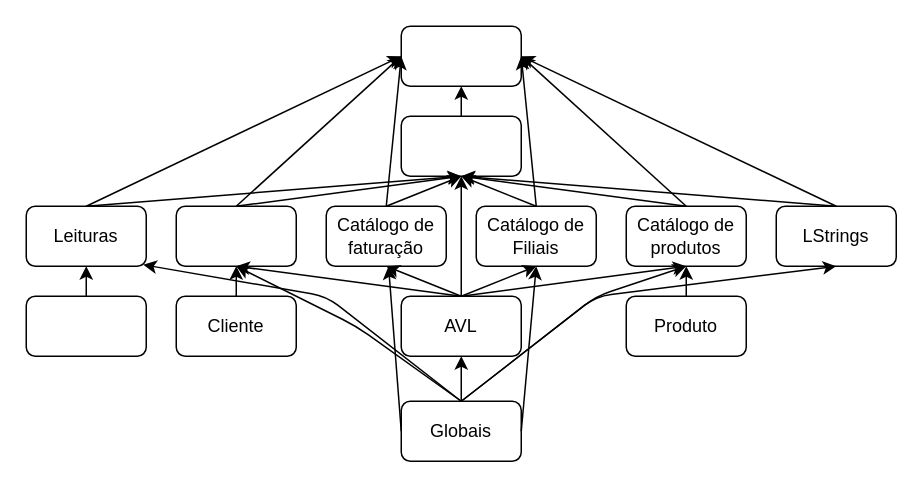
Some shapes in this 923 by 488 pixel diagram are drawn without their labels. Here are the shapes that lost their labels. From the top down, the centre of each, then its label:
[460,55]: Interpretador
[460,145]: Queries
[235,235]: Catálogo de clientes
[85,325]: Venda
